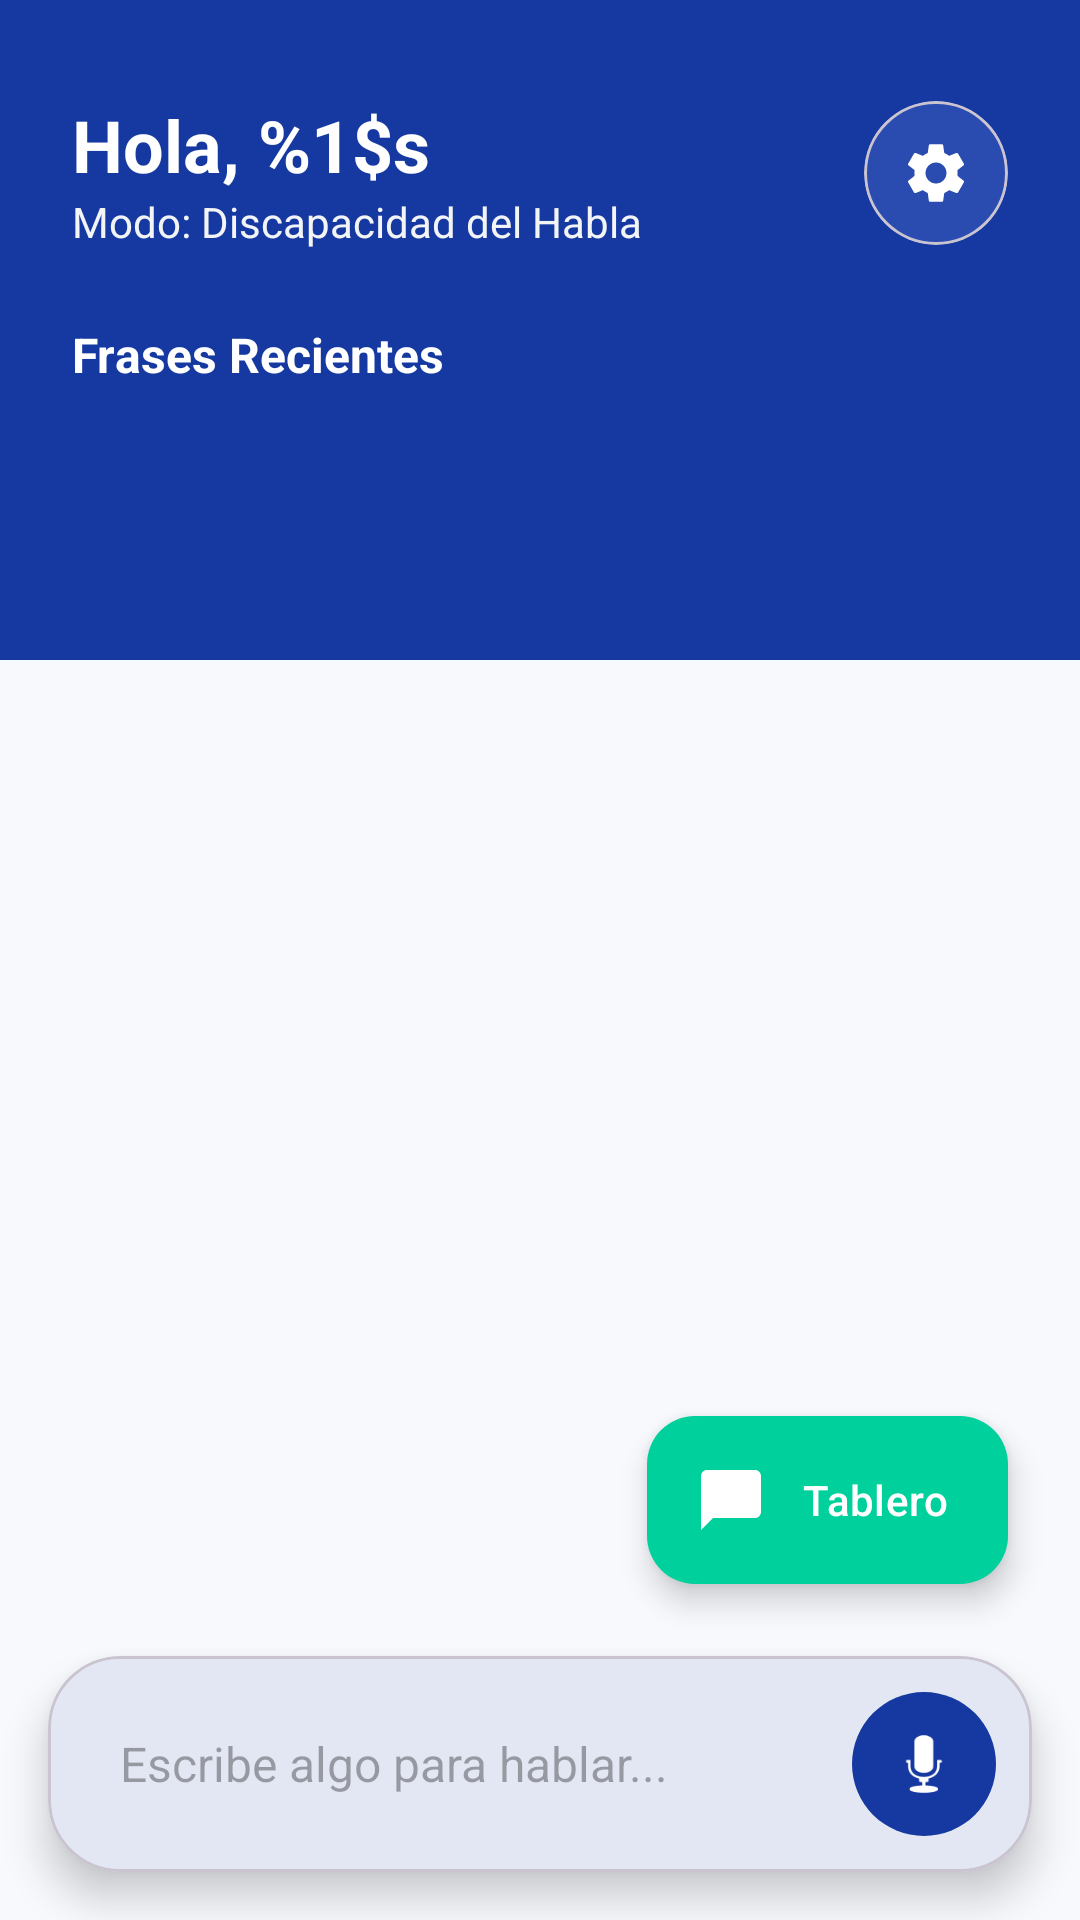

Where to tap for icons on this 1080w x 1920h app screen, as (x,y):
Ajustes: (936,173)
